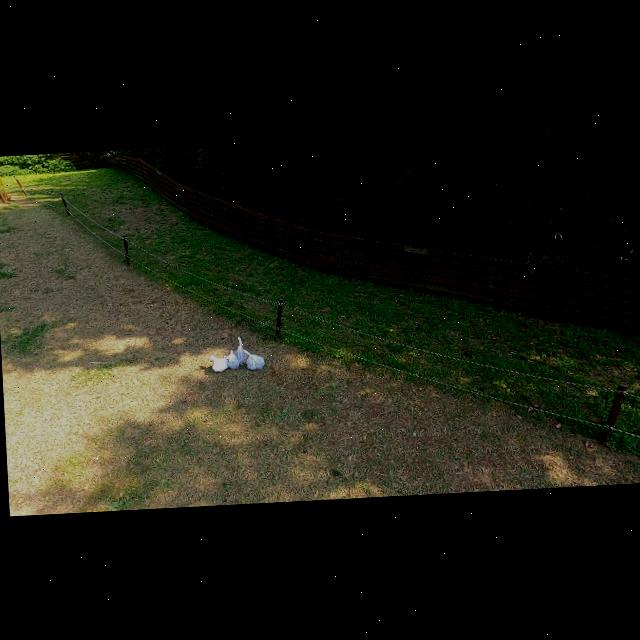trash: (228, 336, 251, 364), (244, 348, 266, 373), (225, 348, 241, 371), (210, 354, 228, 372)
